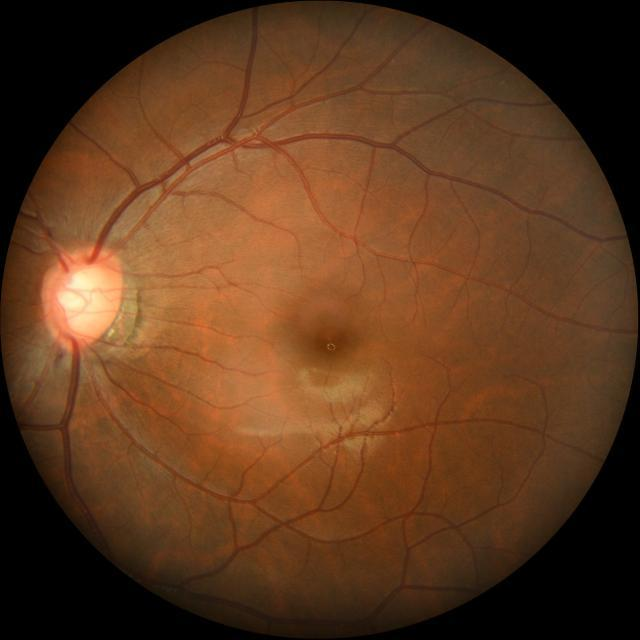OC: (58, 266, 107, 335)
OD: (42, 245, 122, 347)
